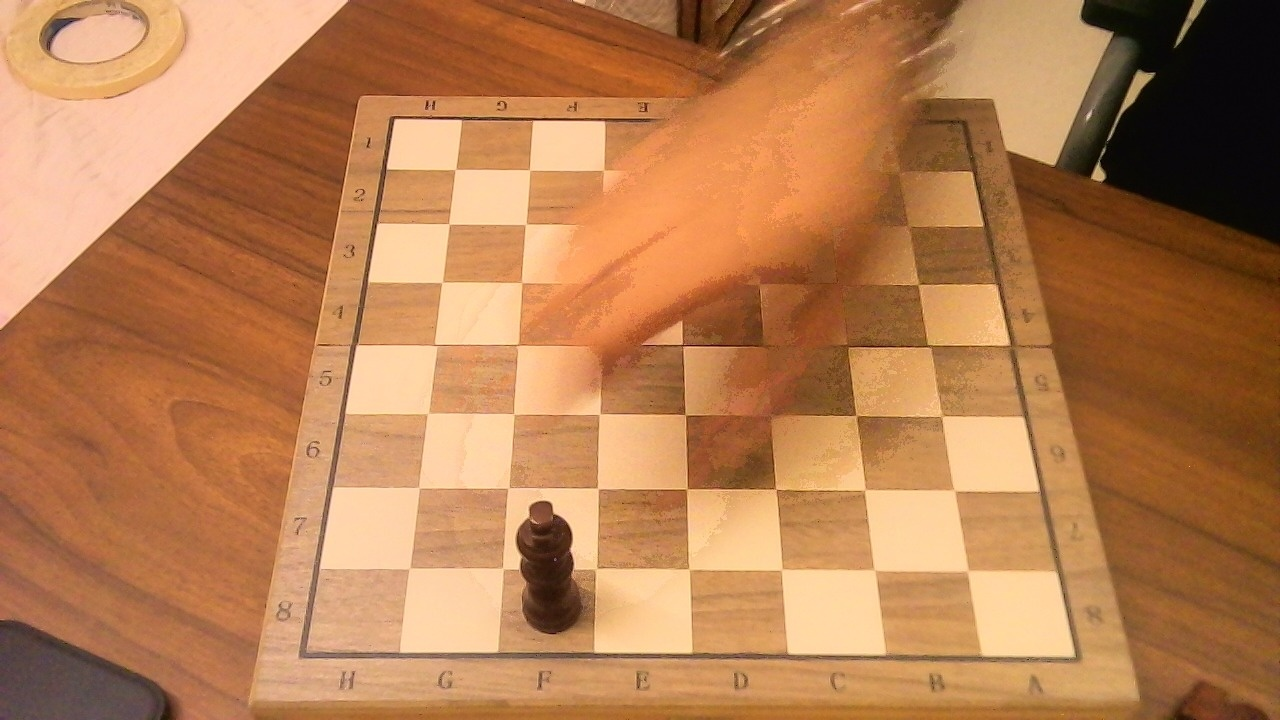k: (506, 489, 594, 638)
